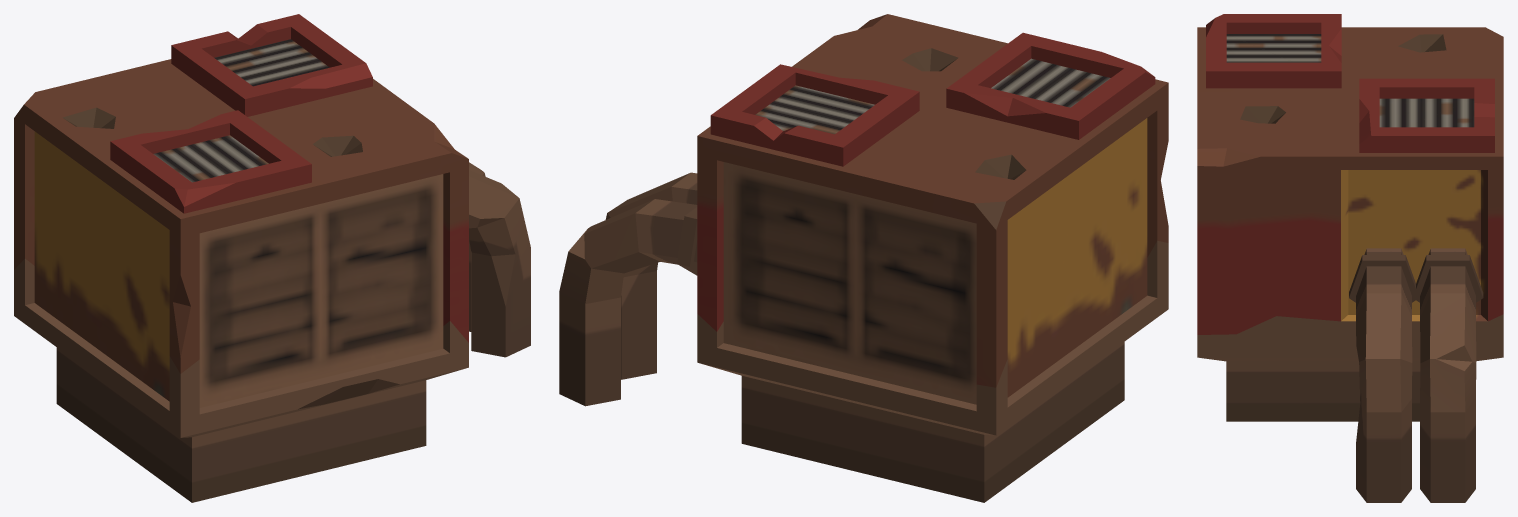
Rendered from SM_Prop_Airconditioner_Large_01.obj.
The picture shows the model from 3 angles, left to right: view 1: azimuth 30°, elevation 25°; view 2: azimuth 150°, elevation 25°; view 3: azimuth 270°, elevation 25°; orthographic projection. The views are drawn at different scales.
Parts seen in each view (by area): view 1: SM_Prop_Airconditioner_Large_01_0; view 2: SM_Prop_Airconditioner_Large_01_0; view 3: SM_Prop_Airconditioner_Large_01_0.
Boxes of the visible parts, x1,y1,x2,y2 form: SM_Prop_Airconditioner_Large_01_0: (14,14,530,502); SM_Prop_Airconditioner_Large_01_0: (559,14,1168,502); SM_Prop_Airconditioner_Large_01_0: (1197,14,1503,502).
Bounding box in the file's own units: 1.53 × 1.06 × 1.
1 material, 1 textured.
